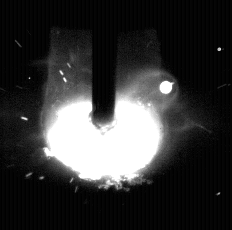arame: (92, 0, 117, 129)
poca: (41, 0, 163, 230)
